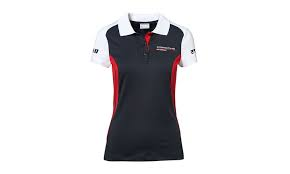C_polo shirt: (88, 10, 201, 170)
